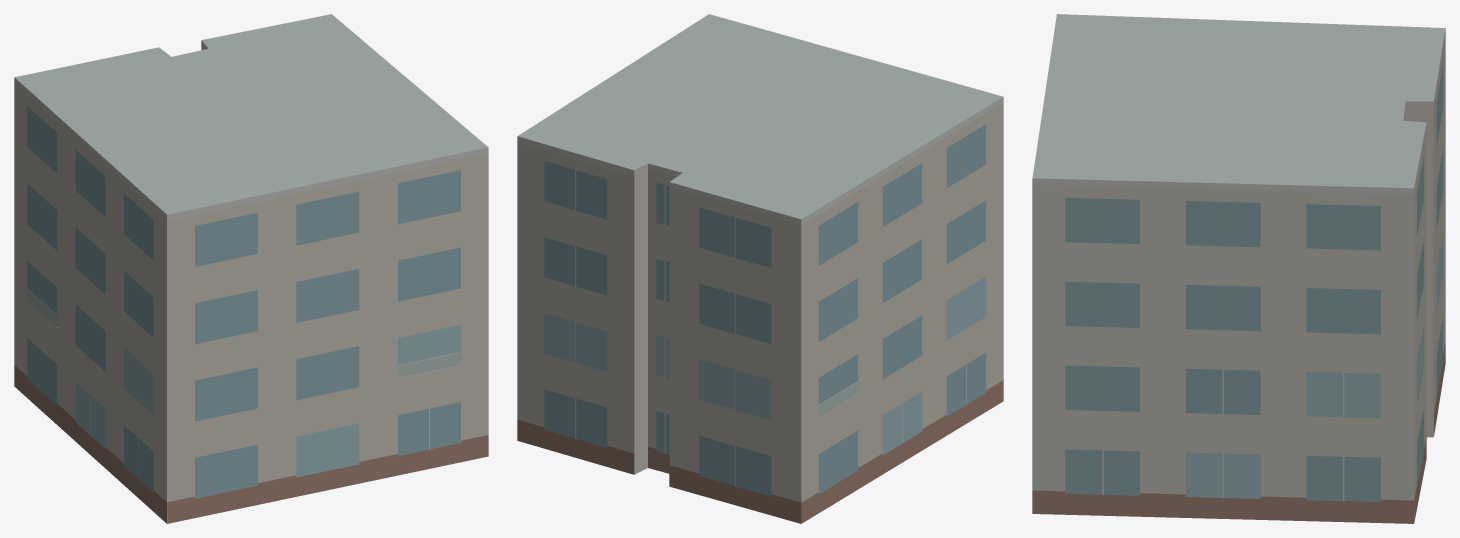
Rendered from survey-upis-32548056.glb.
3 views of the same model, side by side, from view 1: azimuth 30°, elevation 25°; view 2: azimuth 150°, elevation 25°; view 3: azimuth 270°, elevation 25° (orthographic). The views are drawn at different scales.
Visible parts, largest first — view 1: survey-upis-32548056.tmp; view 2: survey-upis-32548056.tmp; view 3: survey-upis-32548056.tmp.
Part boxes in pixels (x1,y1,x2,y2): survey-upis-32548056.tmp: (14,14,488,523); survey-upis-32548056.tmp: (517,14,1003,523); survey-upis-32548056.tmp: (1032,14,1445,523).
Size of the model in its own units: 14.27 by 12.8 by 14.29.
